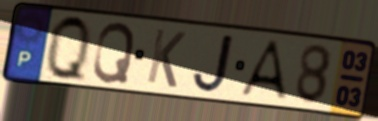8: (294, 41, 334, 106)
A: (237, 37, 290, 102)
J: (190, 32, 237, 95)
K: (144, 26, 189, 91)
Q: (45, 12, 93, 87), (90, 20, 138, 86)
